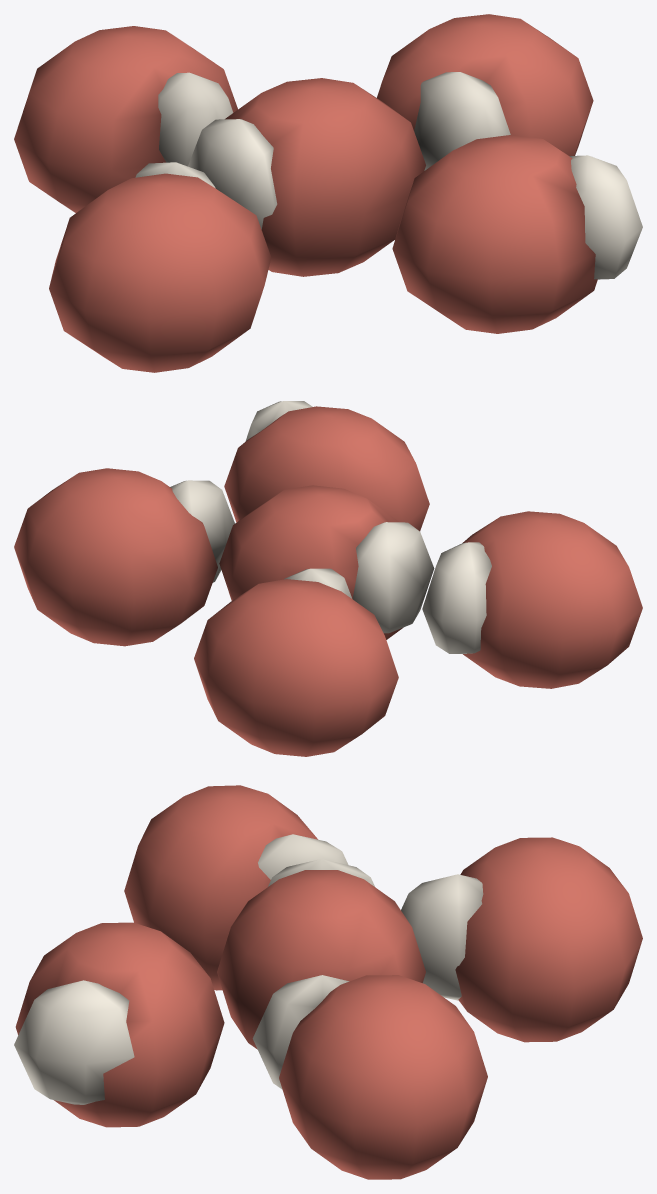
Rendered from forage_nuts.glb.
3 renders of one model, top to bottom at view 1: azimuth 30°, elevation 25°; view 2: azimuth 150°, elevation 25°; view 3: azimuth 270°, elevation 25°, orthographic. The views are drawn at different scales.
Parts seen in each view (by area): view 1: PART; view 2: PART; view 3: PART.
Part boxes in pixels (bbox=[...]): PART: bbox=[14, 14, 642, 372]; PART: bbox=[14, 401, 642, 756]; PART: bbox=[14, 785, 642, 1179].
Size of the model in its own units: 0.0898 by 0.0276 by 0.0812.
